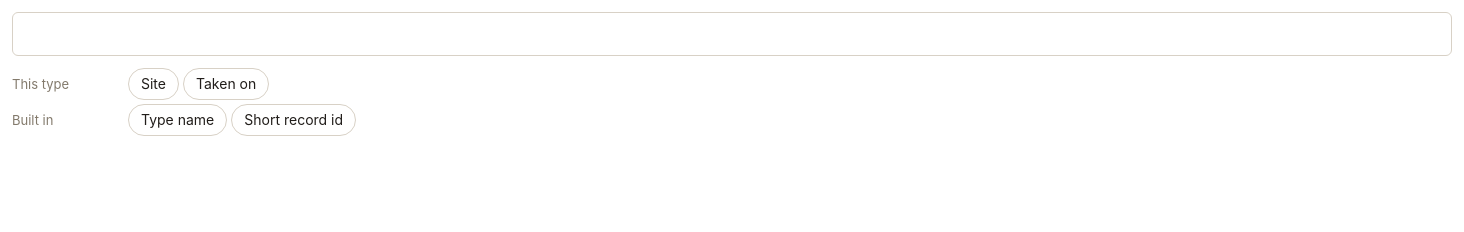
Test case: TemplateBuilder › adds a variable from a chip and leaves out types that cannot be named
Click the button "Site".
click(154, 84)  # box [128, 68, 179, 100]
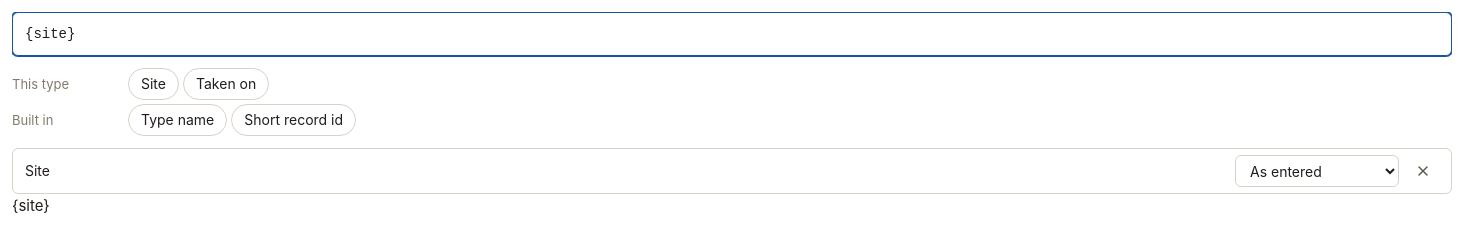
Now the text with test id "value" reads "{site}", box [12, 196, 50, 215]
